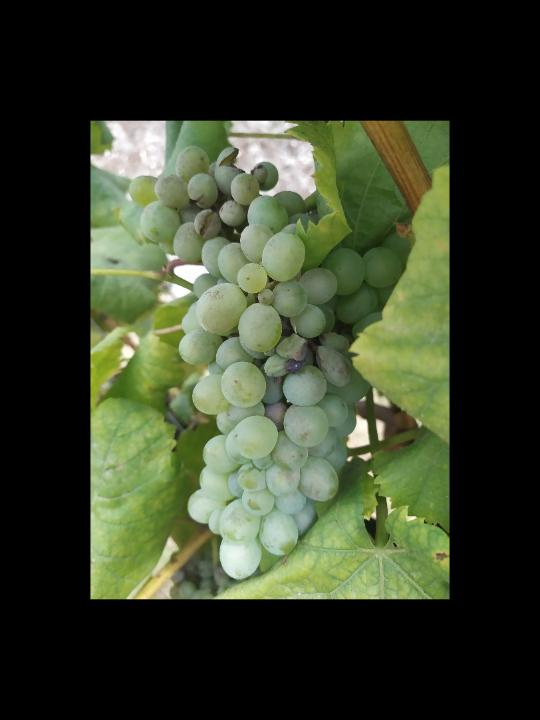grape: (138, 145, 402, 583)
